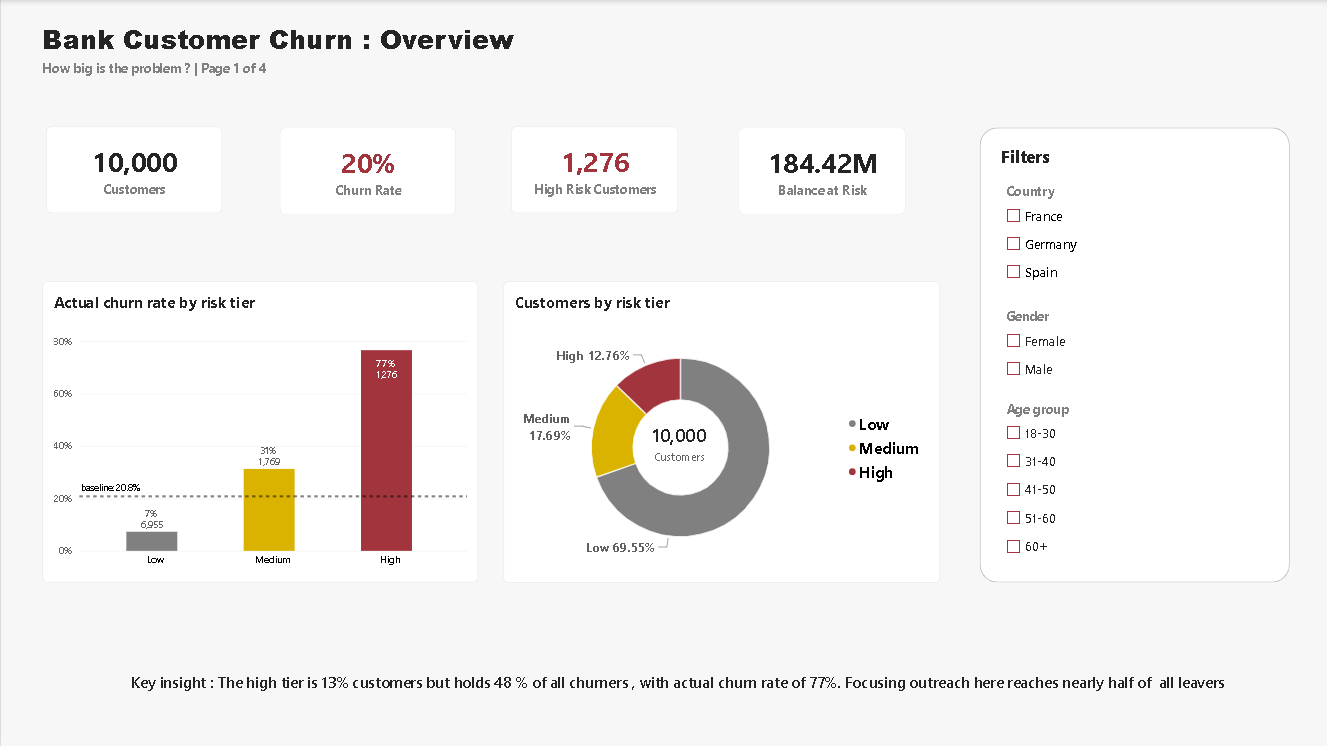

The dashboard page shown, as its layout file describes it:
{"tool":"powerbi","page":{"name":"Overview","canvas":[1920,1080],"ordinal":0},"visuals":[{"type":"shape","box":[1417,184.6,448.8,658.7],"z":0},{"type":"cardVisual","fields":{"Data":["calculations.Churn Rate"]},"box":[403.6,184.6,255.2,126.7],"z":1000},{"type":"cardVisual","fields":{"Data":["calculations.Customers"]},"box":[65.5,183.1,255.2,126.7],"z":2000},{"type":"cardVisual","fields":{"Data":["calculations.High Risk Customers"]},"box":[738.3,182.8,242.5,126.7],"z":3000},{"type":"cardVisual","fields":{"Data":["calculations.Balance at Risk"]},"box":[1067.7,184.6,242.5,126.7],"z":4000},{"type":"columnChart","title":"Actual churn rate by risk tier","fields":{"Category":["churn_powerbi.risk_tier"],"Y":["calculations.Churn Rate"]},"box":[59.7,407.2,631.6,436.1],"z":5000},{"type":"donutChart","title":"Customers by risk tier","fields":{"Category":["churn_powerbi.risk_tier"],"Y":["calculations.Customers"]},"box":[727.2,406.9,631.9,437.2],"z":6000},{"type":"textbox","title":"Bank Customer Churn : Overview","box":[59.7,30.8,1860.3,83.2],"z":7000},{"type":"textbox","box":[1447.7,209.9,211.7,54.3],"z":8000},{"type":"slicer","fields":{"Values":["churn_powerbi.country"]},"box":[1447.8,264,158,162.3],"z":9000},{"type":"slicer","fields":{"Values":["churn_powerbi.gender"]},"box":[1447.8,445.8,145,134.2],"z":10000},{"type":"slicer","fields":{"Values":["churn_powerbi.age_group"]},"box":[1447.7,579.1,193.6,240.7],"z":11000},{"type":"textbox","box":[59.7,971.8,1840.4,67],"z":12000},{"type":"cardVisual","fields":{"Data":["calculations.Customers"]},"box":[924.1,606,114.7,71.4],"z":13000}]}

Visuals, with their boxes in screenshot pixels (x1, y1, x2, y2), scaled from the page's 1920x1080 canvas onto the 1327x746 screenshot:
shape: select_region(979, 128, 1290, 583)
cardVisual - calculations.Churn Rate: select_region(279, 128, 455, 215)
cardVisual - calculations.Customers: select_region(45, 126, 222, 214)
cardVisual - calculations.High Risk Customers: select_region(510, 126, 678, 214)
cardVisual - calculations.Balance at Risk: select_region(738, 128, 906, 215)
"Actual churn rate by risk tier" columnChart: select_region(41, 281, 478, 583)
"Customers by risk tier" donutChart: select_region(503, 281, 939, 583)
"Bank Customer Churn : Overview" textbox: select_region(41, 21, 1326, 79)
textbox: select_region(1001, 145, 1147, 182)
slicer - churn_powerbi.country: select_region(1001, 182, 1110, 294)
slicer - churn_powerbi.gender: select_region(1001, 308, 1101, 401)
slicer - churn_powerbi.age_group: select_region(1001, 400, 1134, 566)
textbox: select_region(41, 671, 1313, 718)
cardVisual - calculations.Customers: select_region(639, 419, 718, 468)
